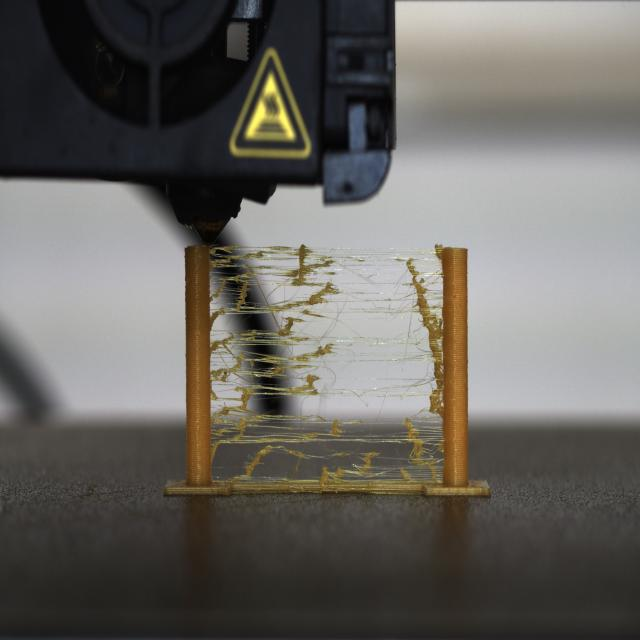Warping: (211, 246, 442, 491)
